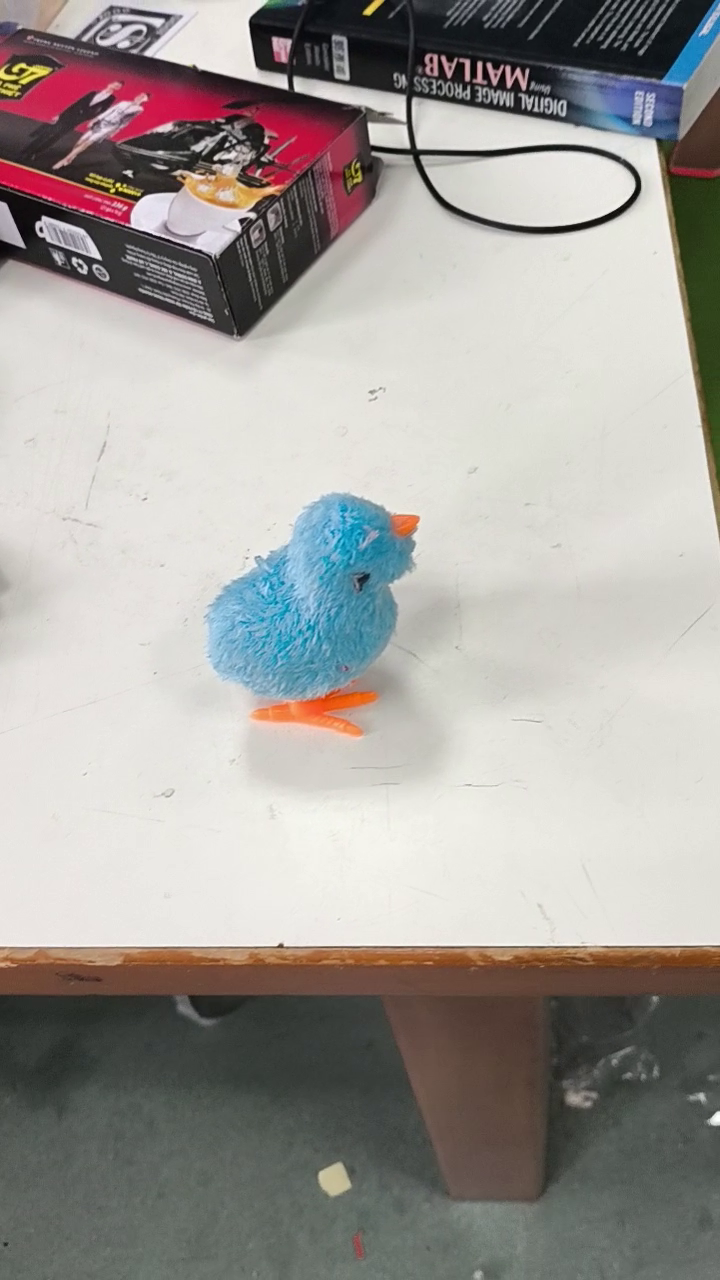blue chicken: (200, 489, 423, 741)
